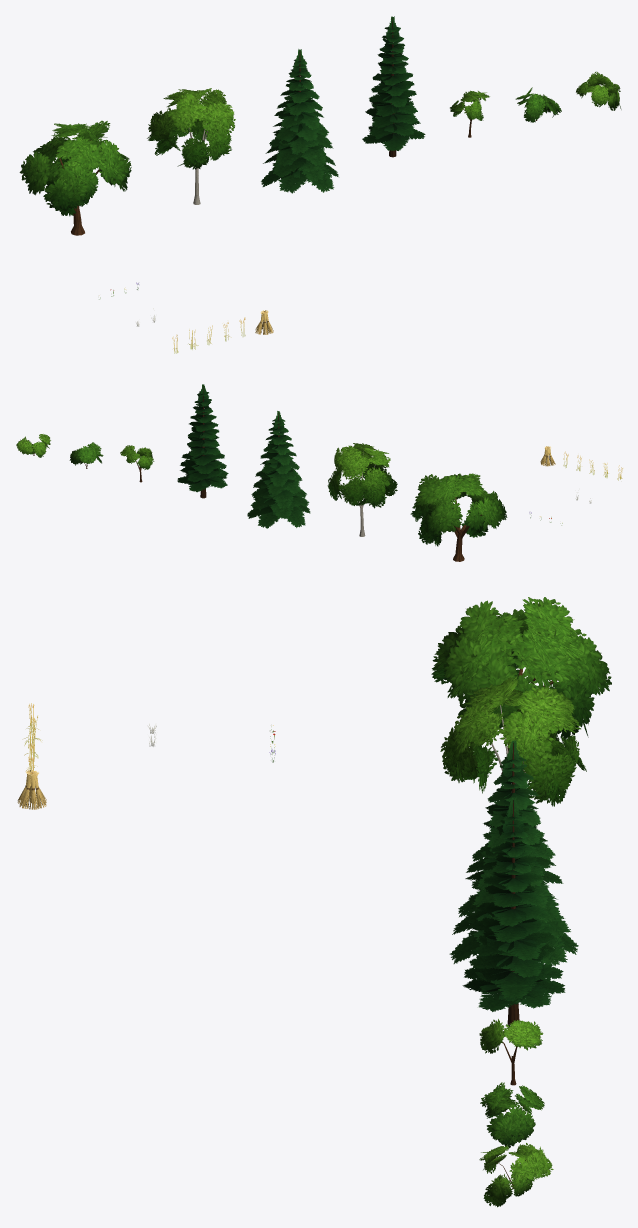
The model's file is flora.glb.
3 renders of one model, top to bottom at view 1: azimuth 30°, elevation 25°; view 2: azimuth 150°, elevation 25°; view 3: azimuth 270°, elevation 25°, orthographic. The views are drawn at different scales.
Parts seen in each view (by area): view 1: Oak, Spruce, Lime, Fir, ShrubB, ShrubA, Sapling; view 2: Oak, Spruce, Lime, Fir, Sapling, ShrubA, ShrubB; view 3: Oak, Fir, Lime, Spruce, ShrubB, ShrubA, Sapling.
Boxes of the visible parts, x1,y1,x2,y2 form: Oak: (19,120,131,235); Spruce: (261,49,338,193); Lime: (147,88,235,204); Fir: (362,16,425,157); ShrubB: (576,71,621,110); ShrubA: (515,87,561,122); Sapling: (450,90,489,137); Oak: (410,473,507,561); Spruce: (247,411,310,528); Lime: (327,443,397,536); Fir: (177,384,228,498); Sapling: (120,445,154,482); ShrubA: (69,442,103,468); ShrubB: (16,434,50,457); Oak: (431,597,611,774); Fir: (462,797,565,1024); Lime: (440,675,586,806); Spruce: (449,740,578,965); ShrubB: (479,1143,553,1207); ShrubA: (480,1082,544,1147); Sapling: (479,1019,543,1085).
Size of the model in its own units: 37.34 by 8.8 by 20.09.
Materials: 3 (2 with a texture image).
